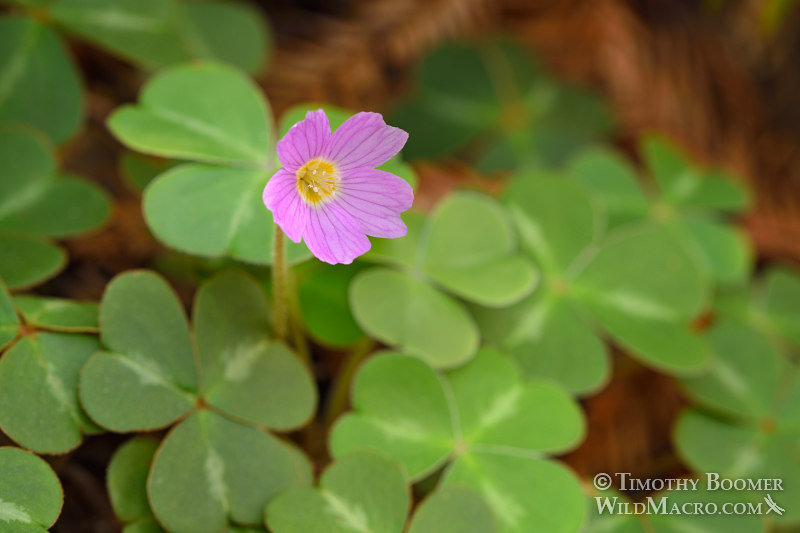oxalis: (88, 128, 800, 532)
